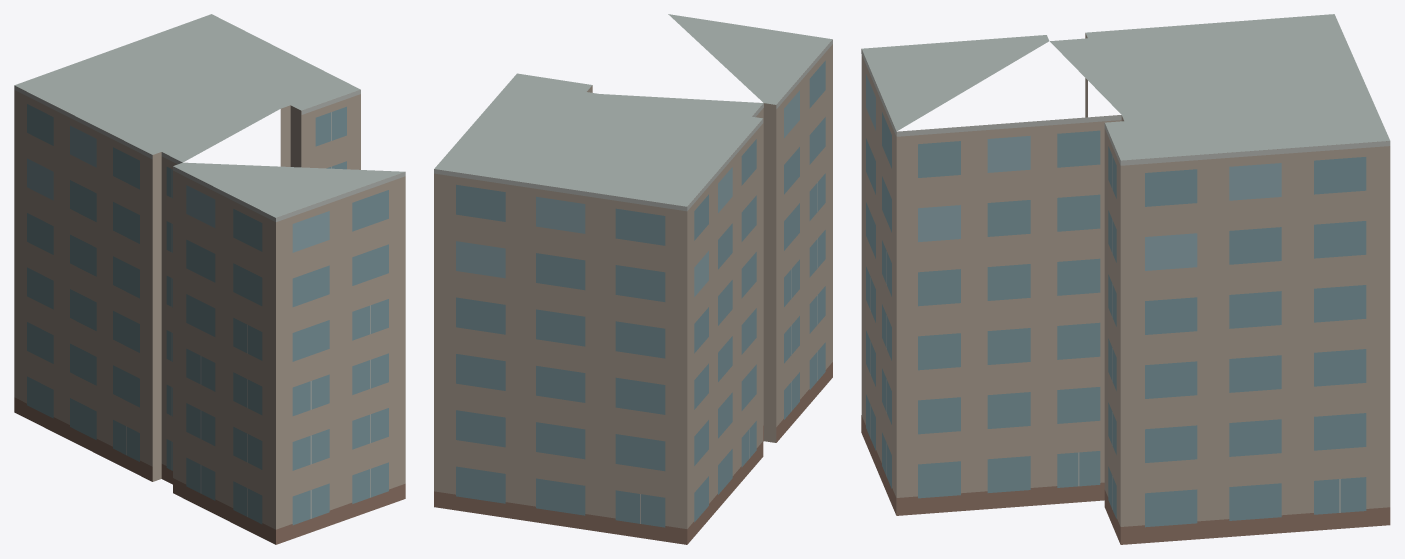
Rendered from survey-upis-32991779.glb.
3 renders of one model, left to right at view 1: azimuth 30°, elevation 25°; view 2: azimuth 150°, elevation 25°; view 3: azimuth 270°, elevation 25°, orthographic. The views are drawn at different scales.
Visible parts, largest first — view 1: survey-upis-32991779.tmp; view 2: survey-upis-32991779.tmp; view 3: survey-upis-32991779.tmp.
Boxes of the visible parts, x1,y1,x2,y2 form: survey-upis-32991779.tmp: (14, 14, 405, 544); survey-upis-32991779.tmp: (434, 14, 832, 544); survey-upis-32991779.tmp: (861, 14, 1390, 544).
Size of the model in its own units: 14.74 by 18 by 22.46.
